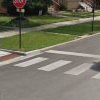crosswalk: (13, 56, 100, 80)
